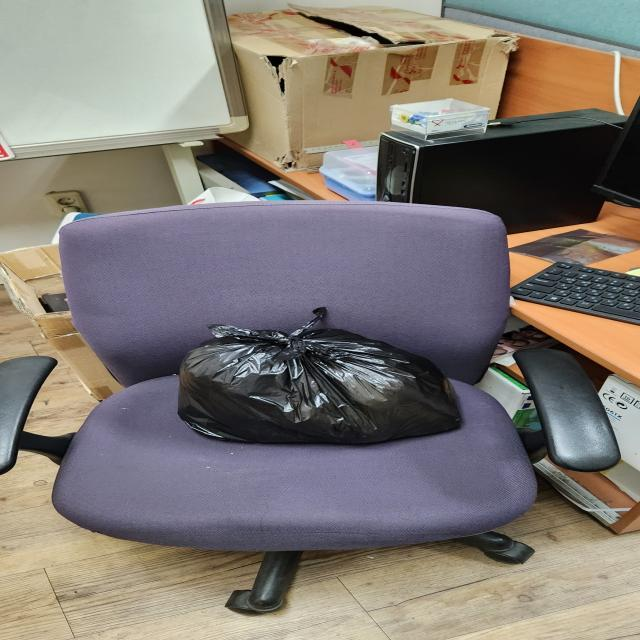black_bag: (175, 304, 467, 447)
